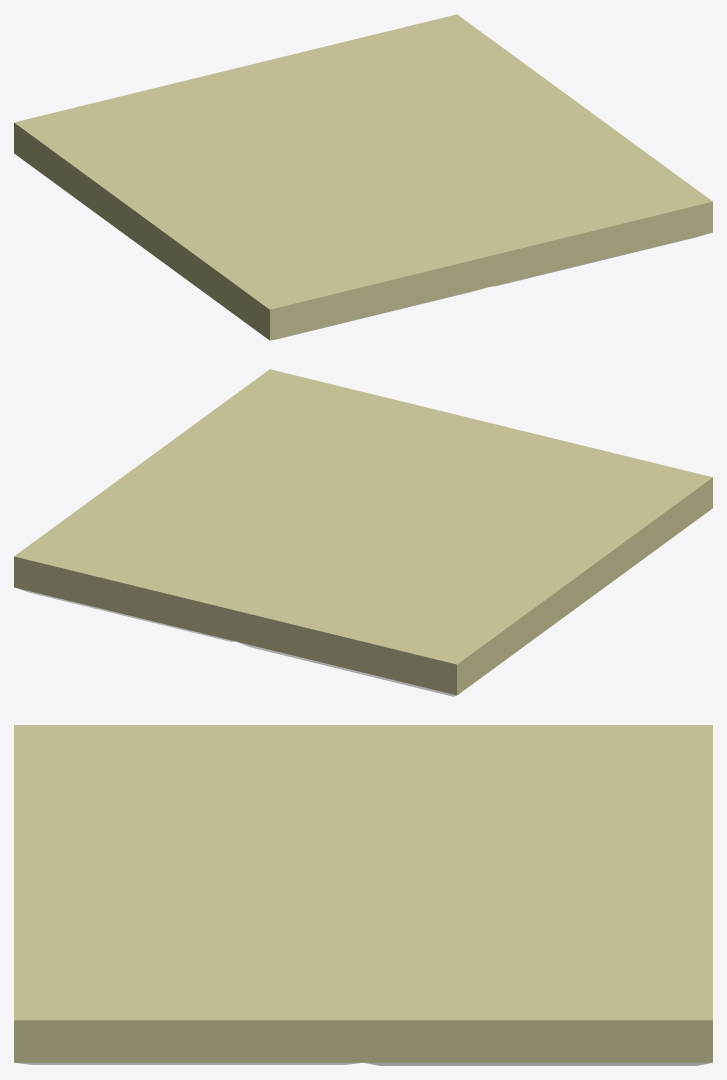
Rendered from CeilingTile_OfficeCeiling.fbx.
3 views of the same model, one above another, from view 1: azimuth 30°, elevation 25°; view 2: azimuth 150°, elevation 25°; view 3: azimuth 270°, elevation 25° (orthographic). The views are drawn at different scales.
Parts seen in each view (by area): view 1: Cube; view 2: Cube; view 3: Cube.
Boxes of the visible parts, x1,y1,x2,y2 form: Cube: (14,14,712,340); Cube: (14,369,712,696); Cube: (14,725,712,1065).
Bounding box in the file's own units: 600 × 49.41 × 600.
